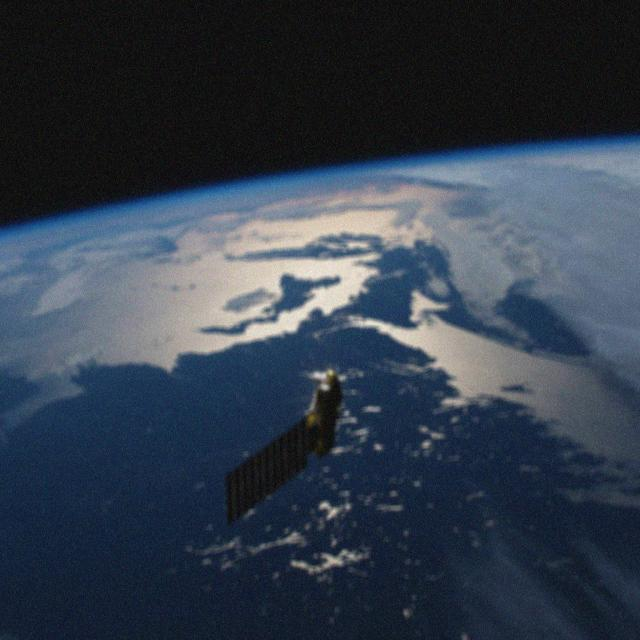satellite: (219, 362, 360, 521)
